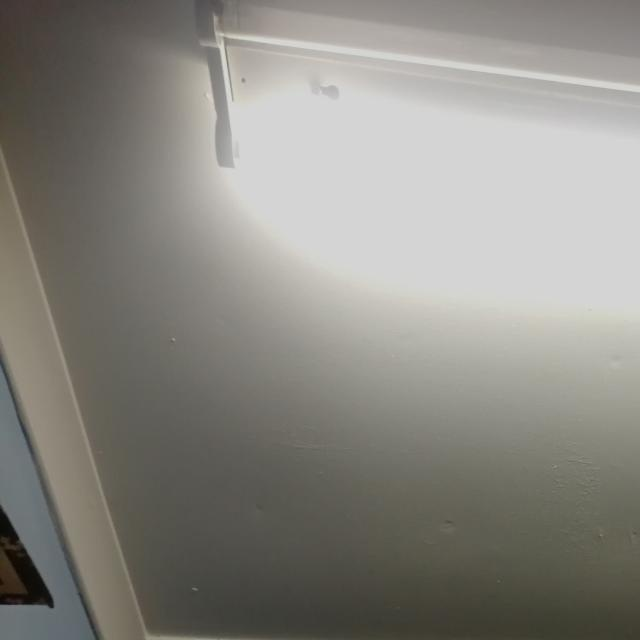fluorescent tube: (188, 71, 640, 423)
